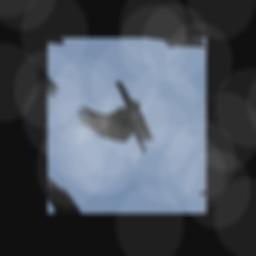Crow: (73, 68, 169, 169)
